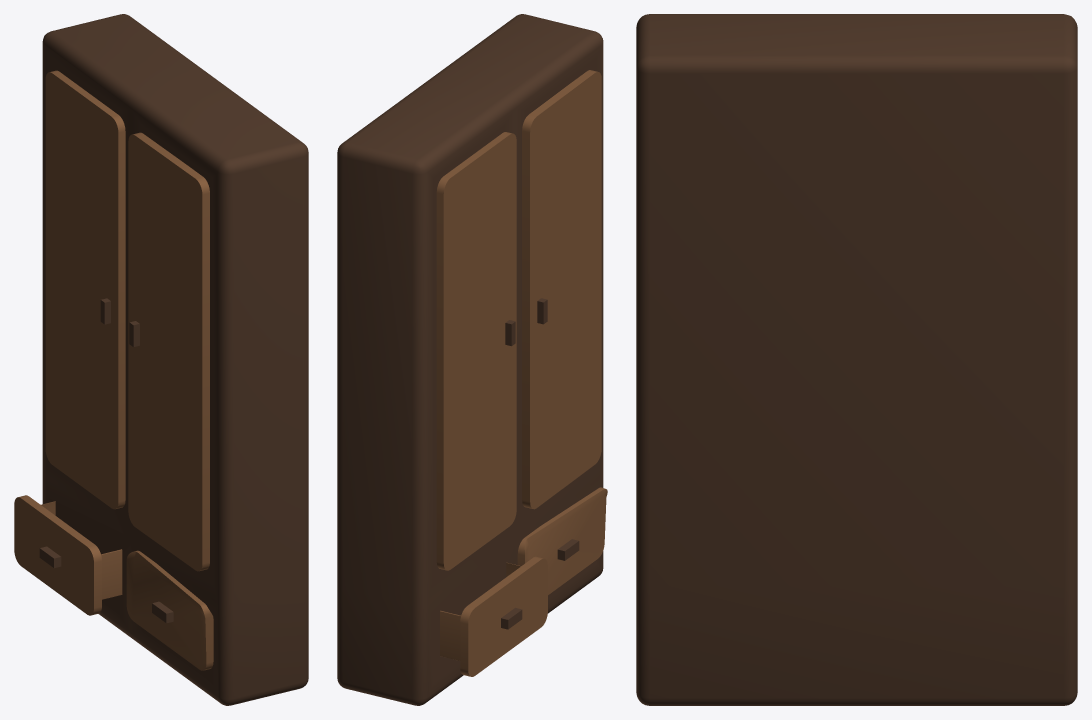
The model's file is Armario_cajon.fbx.
3 renders of one model, left to right at view 1: azimuth 30°, elevation 25°; view 2: azimuth 150°, elevation 25°; view 3: azimuth 270°, elevation 25°, orthographic. The views are drawn at different scales.
Parts seen in each view (by area): view 1: Armario, Puerta01, Puerta02; view 2: Armario, Puerta01, Puerta02; view 3: Armario.
Boxes of the visible parts, left/top/right/bottom form: Armario: left=42, top=14, right=308, bottom=705; Puerta01: left=14, top=70, right=125, bottom=615; Puerta02: left=126, top=132, right=213, bottom=670; Armario: left=337, top=14, right=603, bottom=705; Puerta01: left=436, top=132, right=547, bottom=676; Puerta02: left=517, top=70, right=607, bottom=594; Armario: left=636, top=14, right=1077, bottom=705.
Size of the model in its own units: 0.4842 by 1.92 by 1.18.
